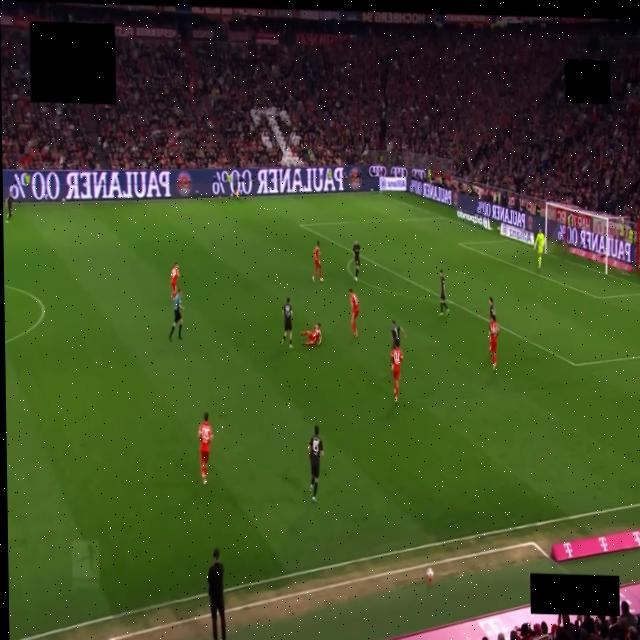player: (307, 425, 323, 502), (198, 412, 213, 485), (390, 347, 402, 403), (281, 297, 292, 348), (489, 316, 498, 370), (348, 289, 358, 337), (533, 229, 544, 269), (301, 324, 321, 345), (439, 270, 448, 315), (312, 241, 322, 281), (391, 320, 405, 348), (170, 262, 179, 300), (352, 240, 360, 281), (5, 192, 14, 223), (488, 296, 495, 321), (488, 297, 495, 319)
referee: (169, 289, 183, 341)
